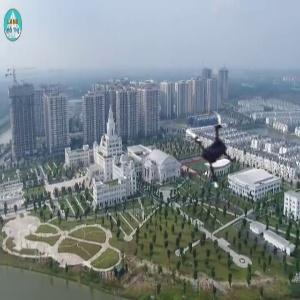drone: (168, 109, 250, 191)
